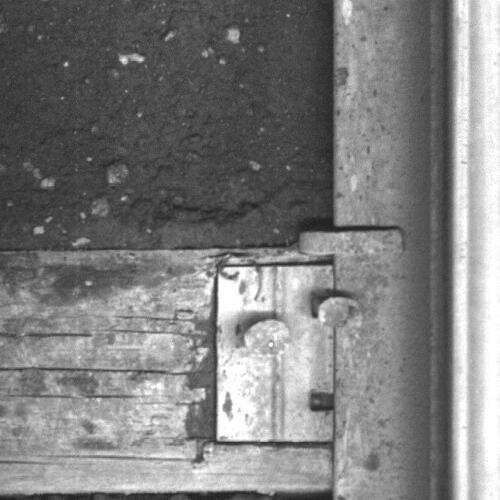crutch: (297, 228, 405, 257)
do: (215, 265, 362, 443)
hole_do: (302, 380, 346, 418)
rail: (449, 1, 500, 500)
tie_wood: (1, 246, 333, 493)
wood_crack: (1, 355, 206, 381)
